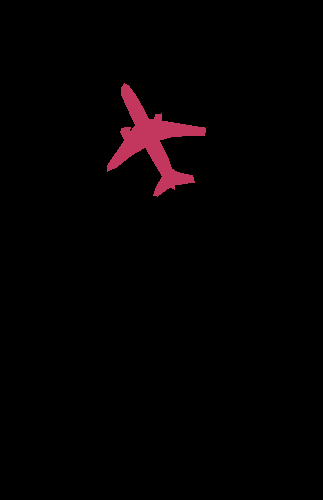Airplane: (107, 83, 206, 197)
